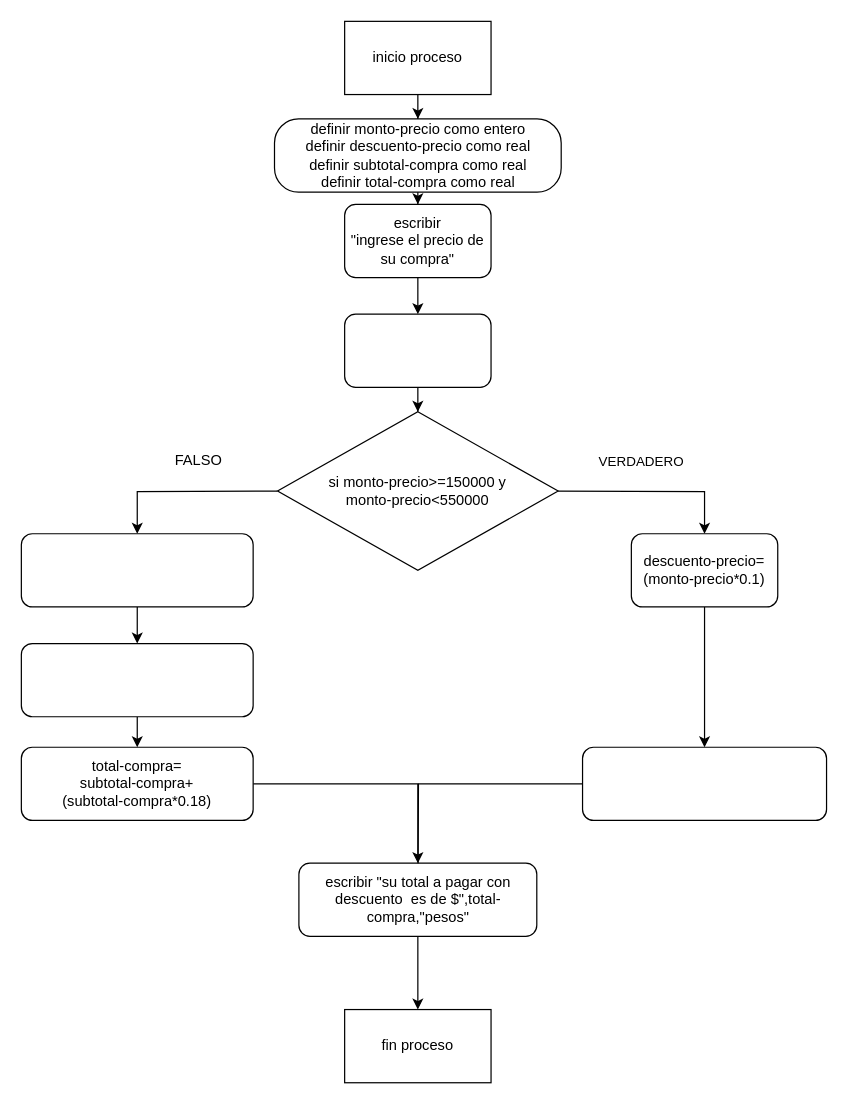
Some shapes in this 848 by 1104 pixel diagram are drawn without their labels. Each missing label, with the centre of its shape:
"descuento-precio= monto-precio-(monto-precio*0.15)" goes at point (136, 570).
"leer: monto-precio" goes at point (417, 350).
"subtotal-compra= monto-precio-descuento-precio" goes at point (136, 679).
"total-compra= monto-precio-descuento-precio" goes at point (704, 783).
